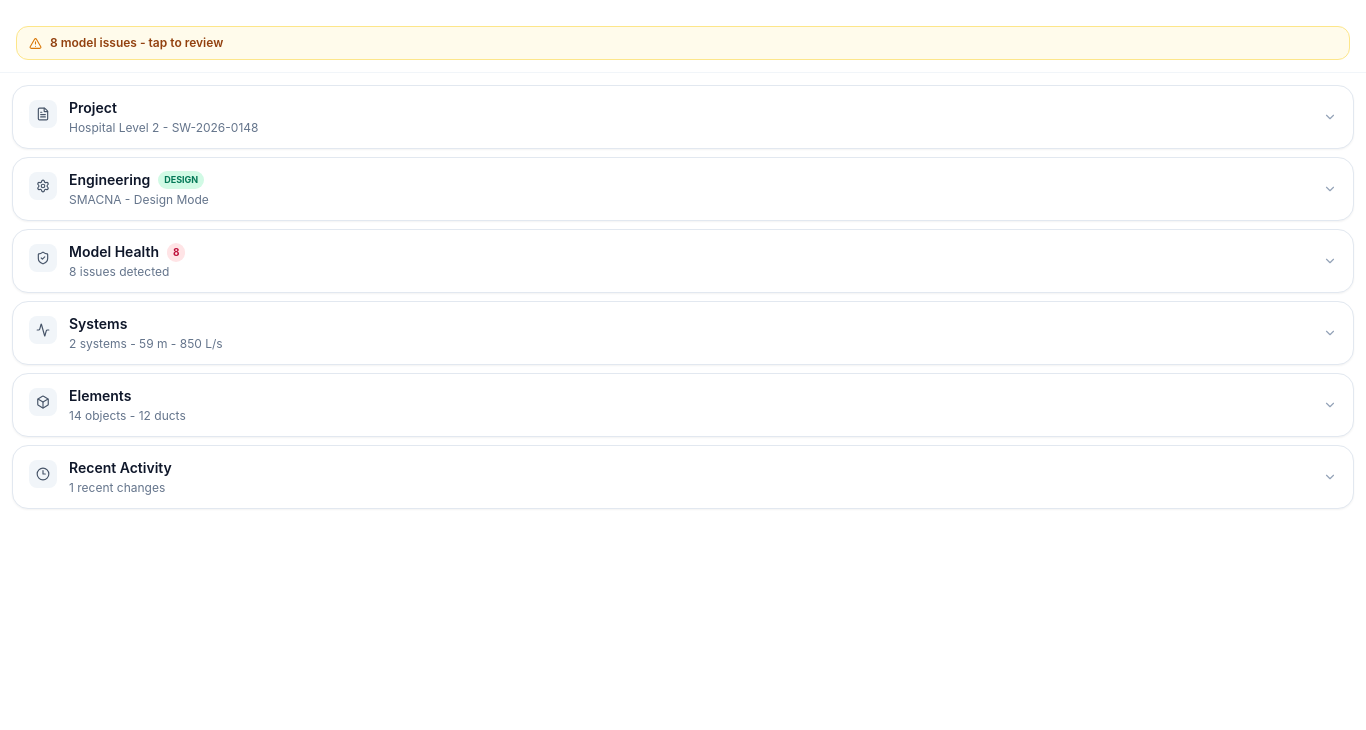
InspectorOverviewPanel › formats system values for metric unit projects
Click the button "Systems 2 systems - 59 m - 850 L/s". click: (98, 324)
box: [13,302,1353,364]
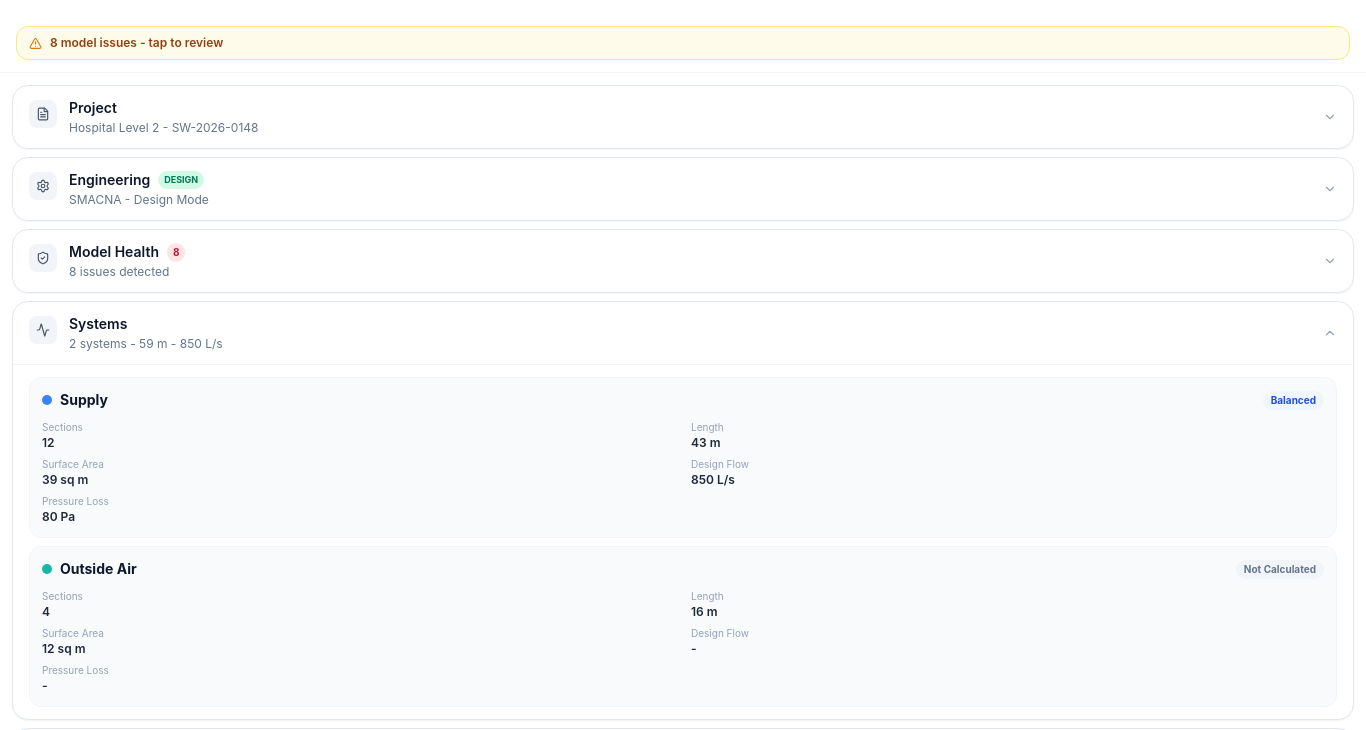
Result: the text "43 m" is shown at [691,435,720,450]
Result: the text "850 L/s" is shown at [691,472,735,487]
